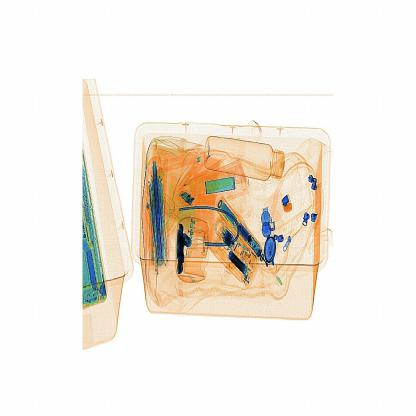wrench: (281, 193, 295, 219)
